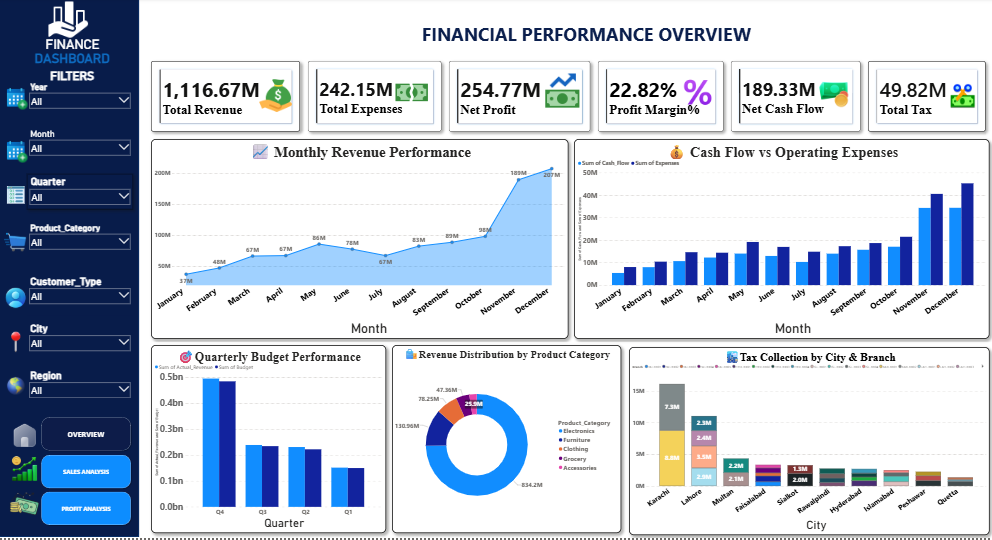

This screenshot's page, from the dashboard's own definition file:
{"tool":"powerbi","page":{"name":" OVERVIEW","canvas":[4061,2204],"ordinal":0},"visuals":[{"type":"shape","box":[0,-7,576,2208],"z":0},{"type":"textbox","title":"FINANCIAL PERFORMANCE OVERVIEW","box":[1680,96,1440,96],"z":1000},{"type":"cardVisual","title":"Total Revenue","fields":{"Data":["Sum(Financial_Performance_Overview.Actual_Revenue)"]},"box":[624,256,608,288],"z":2000},{"type":"cardVisual","fields":{"Data":["Sum(Financial_Performance_Overview.Net_Profit)"]},"box":[1840,256,576,288],"z":3000},{"type":"cardVisual","fields":{"Data":["Sum(Financial_Performance_Overview.Expenses)"]},"box":[1264,256,544,288],"z":4000},{"type":"cardVisual","fields":{"Data":["Financial_Performance_Overview.Profit Margin%"]},"box":[2448,256,512,288],"z":5000},{"type":"lineChart","title":"📈 Monthly Revenue Performance","fields":{"Category":["Financial_Performance_Overview.Date.Variation.Date Hierarchy.Month"],"Y":["Sum(Financial_Performance_Overview.Actual_Revenue)"]},"box":[624,576,1704,816],"z":6000},{"type":"image","box":[144,0,288,176],"z":7000},{"type":"textbox","title":"FINANCE","box":[176,160,256,64],"z":8000},{"type":"textbox","title":"DASHBOARD","box":[128,216,352,64],"z":9000},{"type":"pageNavigator","box":[168,1704,384,456],"z":10000},{"type":"textbox","title":"FILTERS","box":[128,288,352,64],"z":11000},{"type":"slicer","fields":{"Values":["Financial_Performance_Overview.Quarter"]},"box":[120,720,432,144],"z":12000},{"type":"slicer","fields":{"Values":["Financial_Performance_Overview.Year"]},"box":[120,336,432,120],"z":13000},{"type":"slicer","fields":{"Values":["Financial_Performance_Overview.Product_Category"]},"box":[120,912,432,144],"z":14000},{"type":"image","box":[48,1728,120,120],"z":15000},{"type":"image","box":[48,1848,120,144],"z":16000},{"type":"image","box":[24,1992,168,144],"z":17000},{"type":"columnChart","title":"🏙️Tax Collection by City & Branch","fields":{"Category":["Financial_Performance_Overview.City"],"Series":["Financial_Performance_Overview.Branch"],"Y":["Sum(Financial_Performance_Overview.Tax)"]},"box":[2576,1424,1472,768],"z":18000},{"type":"donutChart","title":"🛍️Revenue Distribution by Product Category","fields":{"Category":["Financial_Performance_Overview.Product_Category"],"Y":["Sum(Financial_Performance_Overview.Actual_Revenue)"]},"box":[1608,1416,936,768],"z":19000},{"type":"image","box":[1008,320,256,160],"z":20000},{"type":"image","box":[2176,288,256,176],"z":21000},{"type":"image","box":[1616,272,144,224],"z":22000},{"type":"cardVisual","fields":{"Data":["Sum(Financial_Performance_Overview.Cash_Flow)"]},"box":[2992,256,528,288],"z":23000},{"type":"clusteredColumnChart","title":"🎯Quarterly Budget Performance","fields":{"Category":["Financial_Performance_Overview.Quarter"],"Y":["Sum(Financial_Performance_Overview.Actual_Revenue)","Sum(Financial_Performance_Overview.Budget)"]},"box":[624,1416,960,768],"z":24000},{"type":"slicer","fields":{"Values":["Financial_Performance_Overview.Customer_Type"]},"box":[120,1128,432,168],"z":25000},{"type":"slicer","fields":{"Values":["Financial_Performance_Overview.City"]},"box":[120,1320,432,144],"z":26000},{"type":"slicer","fields":{"Values":["Financial_Performance_Overview.Region"]},"box":[120,1512,432,144],"z":27000},{"type":"image","box":[3344,304,128,160],"z":28000},{"type":"image","box":[24,360,96,96],"z":29000},{"type":"image","box":[24,1536,96,96],"z":30000},{"type":"image","box":[24,1344,96,120],"z":31000},{"type":"image","box":[24,1176,96,96],"z":32000},{"type":"image","box":[24,576,96,96],"z":33000},{"type":"image","box":[2784,312,144,144],"z":35000},{"type":"image","box":[24,912,96,168],"z":36000},{"type":"slicer","fields":{"Values":["Financial_Performance_Overview.Date.Variation.Date Hierarchy.Month"]},"box":[120,528,432,144],"z":37000},{"type":"image","box":[24,768,96,72],"z":38000},{"type":"clusteredColumnChart","title":"💰 Cash Flow vs Operating Expenses","fields":{"Category":["Financial_Performance_Overview.Date.Variation.Date Hierarchy.Month"],"Y":["Sum(Financial_Performance_Overview.Cash_Flow)","Sum(Financial_Performance_Overview.Expenses)"]},"box":[2352,576,1696,816],"z":39000},{"type":"cardVisual","fields":{"Data":["Sum(Financial_Performance_Overview.Tax)"]},"box":[3552,256,480,288],"z":40000},{"type":"image","box":[3872,320,128,160],"z":41000}]}

Visuals, with their boxes in screenshot pixels (x1, y1, x2, y2), scaled from the page's 4061x2204 canvas onto the 992x540 screenshot:
shape: {"x1": 0, "y1": 0, "x2": 141, "y2": 539}
"FINANCIAL PERFORMANCE OVERVIEW" textbox: {"x1": 410, "y1": 24, "x2": 762, "y2": 47}
"Total Revenue" cardVisual: {"x1": 152, "y1": 63, "x2": 301, "y2": 133}
cardVisual - Sum(Financial_Performance_Overview.Net_Profit): {"x1": 449, "y1": 63, "x2": 590, "y2": 133}
cardVisual - Sum(Financial_Performance_Overview.Expenses): {"x1": 309, "y1": 63, "x2": 442, "y2": 133}
cardVisual - Financial_Performance_Overview.Profit Margin%: {"x1": 598, "y1": 63, "x2": 723, "y2": 133}
"📈 Monthly Revenue Performance" lineChart: {"x1": 152, "y1": 141, "x2": 569, "y2": 341}
image: {"x1": 35, "y1": 0, "x2": 106, "y2": 43}
"FINANCE" textbox: {"x1": 43, "y1": 39, "x2": 106, "y2": 55}
"DASHBOARD" textbox: {"x1": 31, "y1": 53, "x2": 117, "y2": 69}
pageNavigator: {"x1": 41, "y1": 417, "x2": 135, "y2": 529}
"FILTERS" textbox: {"x1": 31, "y1": 71, "x2": 117, "y2": 86}
slicer - Financial_Performance_Overview.Quarter: {"x1": 29, "y1": 176, "x2": 135, "y2": 212}
slicer - Financial_Performance_Overview.Year: {"x1": 29, "y1": 82, "x2": 135, "y2": 112}
slicer - Financial_Performance_Overview.Product_Category: {"x1": 29, "y1": 223, "x2": 135, "y2": 259}
image: {"x1": 12, "y1": 423, "x2": 41, "y2": 453}
image: {"x1": 12, "y1": 453, "x2": 41, "y2": 488}
image: {"x1": 6, "y1": 488, "x2": 47, "y2": 523}
"🏙️Tax Collection by City & Branch" columnChart: {"x1": 629, "y1": 349, "x2": 989, "y2": 537}
"🛍️Revenue Distribution by Product Category" donutChart: {"x1": 393, "y1": 347, "x2": 621, "y2": 535}
image: {"x1": 246, "y1": 78, "x2": 309, "y2": 118}
image: {"x1": 532, "y1": 71, "x2": 594, "y2": 114}
image: {"x1": 395, "y1": 67, "x2": 430, "y2": 122}
cardVisual - Sum(Financial_Performance_Overview.Cash_Flow): {"x1": 731, "y1": 63, "x2": 860, "y2": 133}
"🎯Quarterly Budget Performance" clusteredColumnChart: {"x1": 152, "y1": 347, "x2": 387, "y2": 535}
slicer - Financial_Performance_Overview.Customer_Type: {"x1": 29, "y1": 276, "x2": 135, "y2": 318}
slicer - Financial_Performance_Overview.City: {"x1": 29, "y1": 323, "x2": 135, "y2": 359}
slicer - Financial_Performance_Overview.Region: {"x1": 29, "y1": 370, "x2": 135, "y2": 406}
image: {"x1": 817, "y1": 74, "x2": 848, "y2": 114}
image: {"x1": 6, "y1": 88, "x2": 29, "y2": 112}
image: {"x1": 6, "y1": 376, "x2": 29, "y2": 400}
image: {"x1": 6, "y1": 329, "x2": 29, "y2": 359}
image: {"x1": 6, "y1": 288, "x2": 29, "y2": 312}
image: {"x1": 6, "y1": 141, "x2": 29, "y2": 165}
image: {"x1": 680, "y1": 76, "x2": 715, "y2": 112}
image: {"x1": 6, "y1": 223, "x2": 29, "y2": 265}
slicer - Financial_Performance_Overview.Date.Variation.Date Hierarchy.Month: {"x1": 29, "y1": 129, "x2": 135, "y2": 165}
image: {"x1": 6, "y1": 188, "x2": 29, "y2": 206}
"💰 Cash Flow vs Operating Expenses" clusteredColumnChart: {"x1": 575, "y1": 141, "x2": 989, "y2": 341}
cardVisual - Sum(Financial_Performance_Overview.Tax): {"x1": 868, "y1": 63, "x2": 985, "y2": 133}
image: {"x1": 946, "y1": 78, "x2": 977, "y2": 118}
